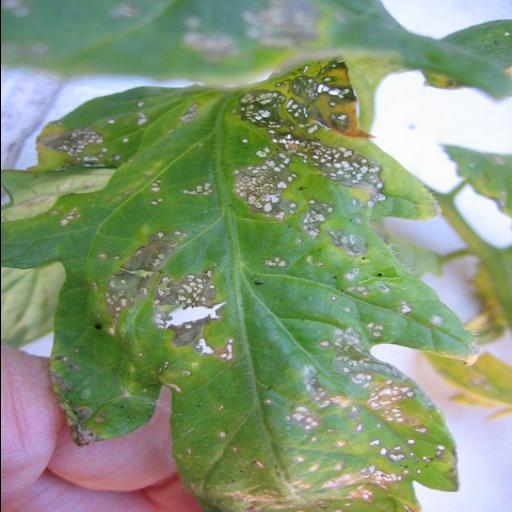Septoria: (0, 47, 488, 512)
